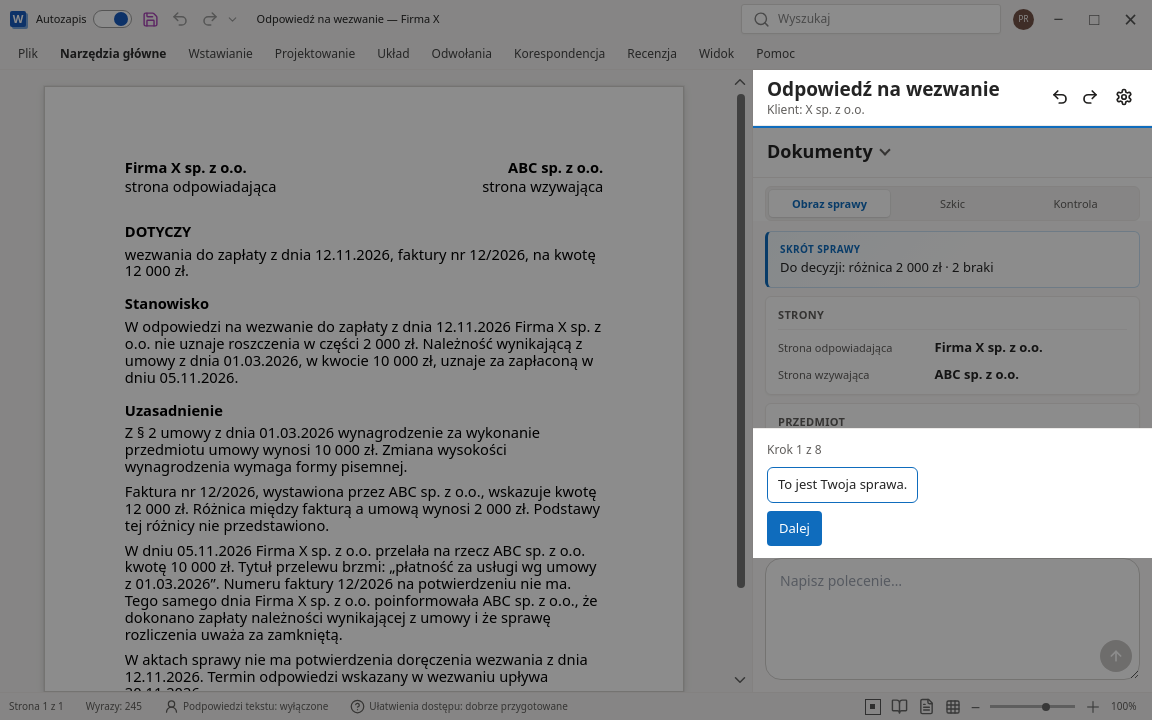
Test: prezentacja › krok 6 czeka na kliknięcie faktury
Later steps or results of the test are not shown.
Click the button "Dalej".
click(794, 529)  # box [767, 511, 822, 546]
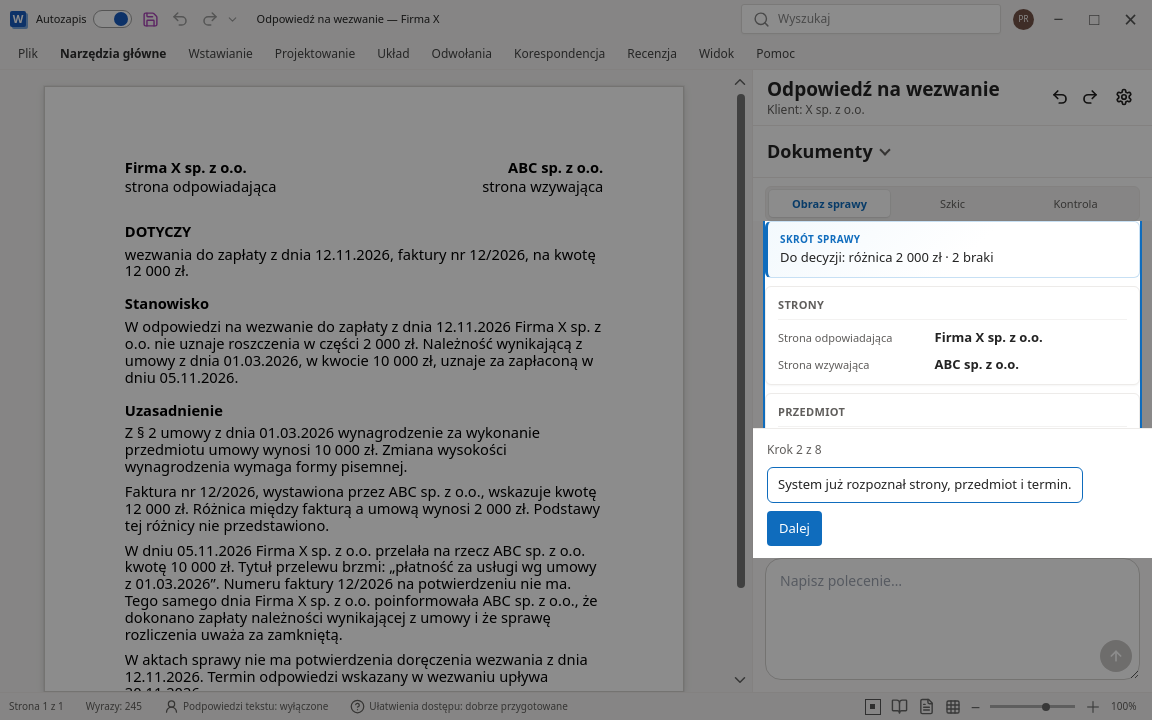
Click the button "Dalej".
click(794, 529)  # box [767, 511, 822, 546]
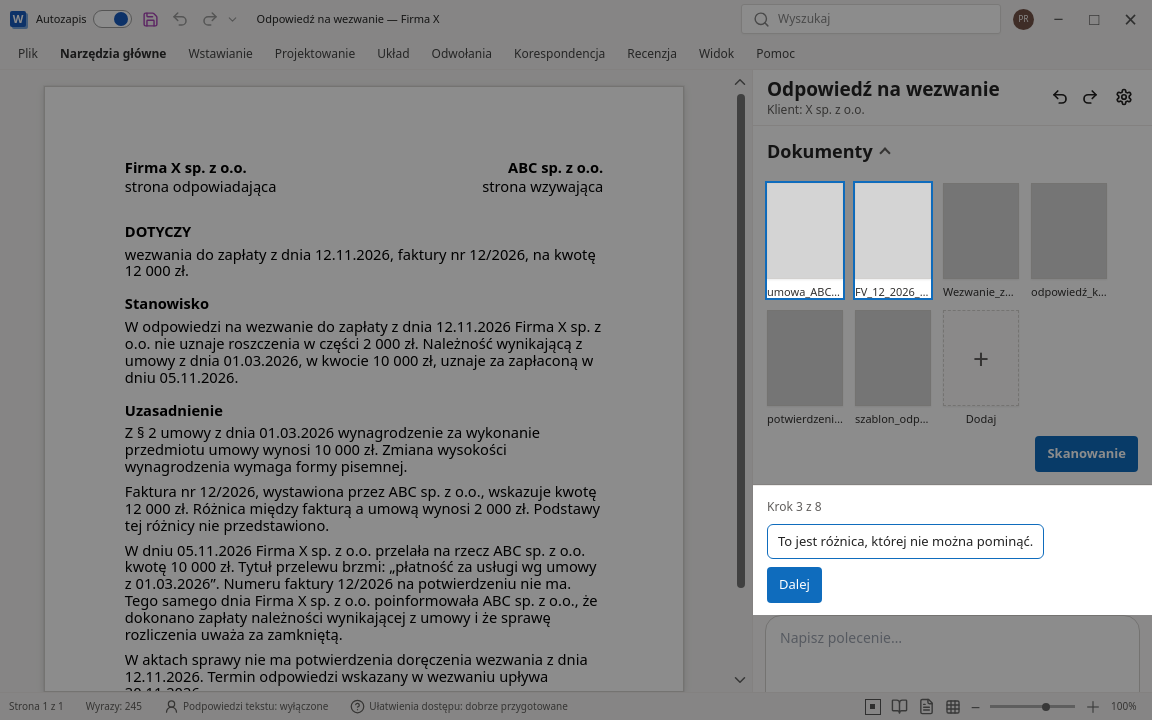
Click the button "Dalej".
click(794, 585)  # box [767, 567, 822, 603]
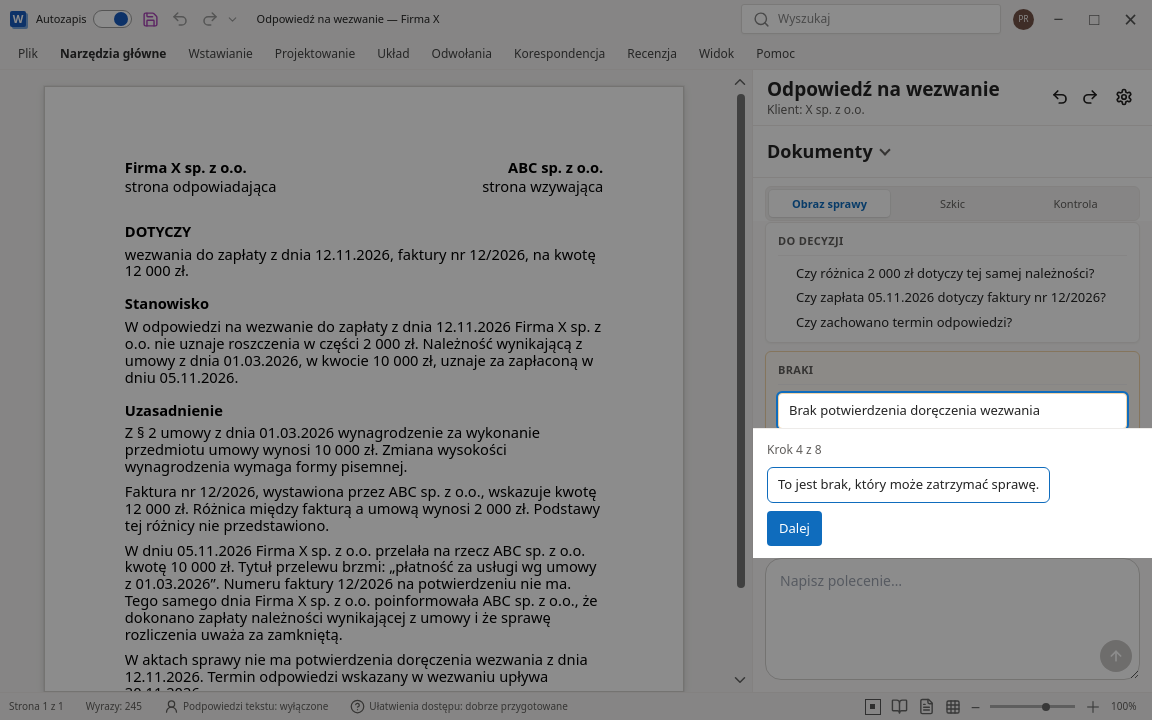
Click the button "Dalej".
click(794, 529)  # box [767, 511, 822, 546]
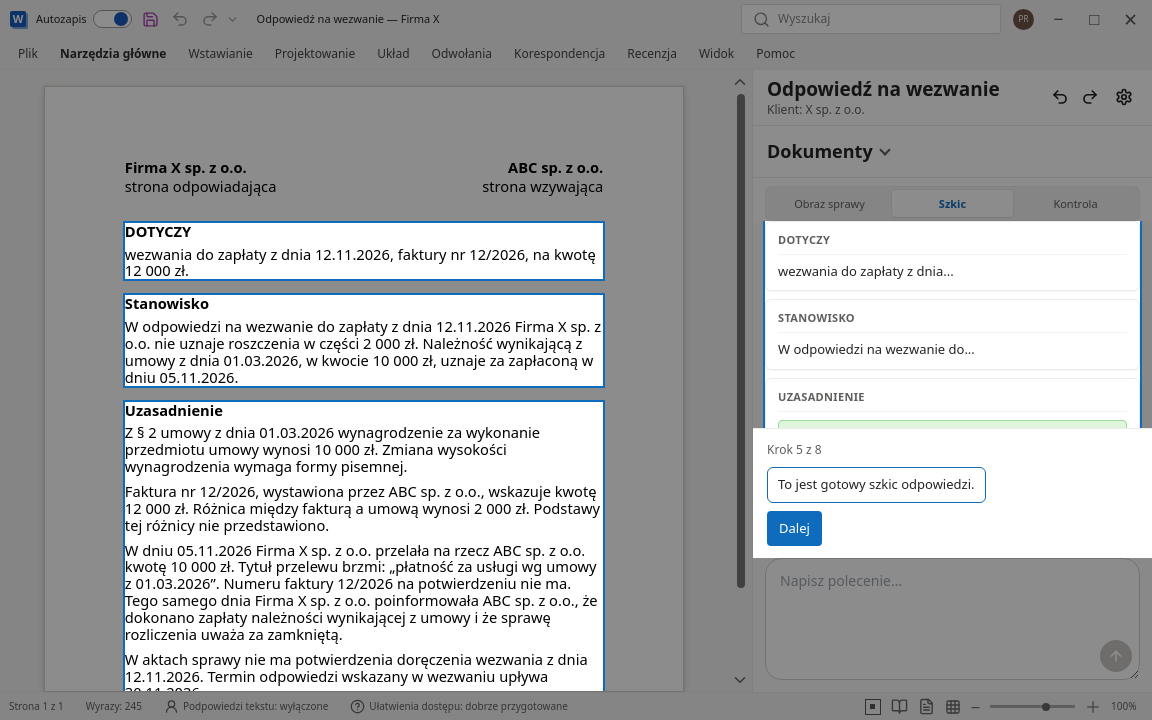
Click the button "Dalej".
click(794, 529)  # box [767, 511, 822, 546]
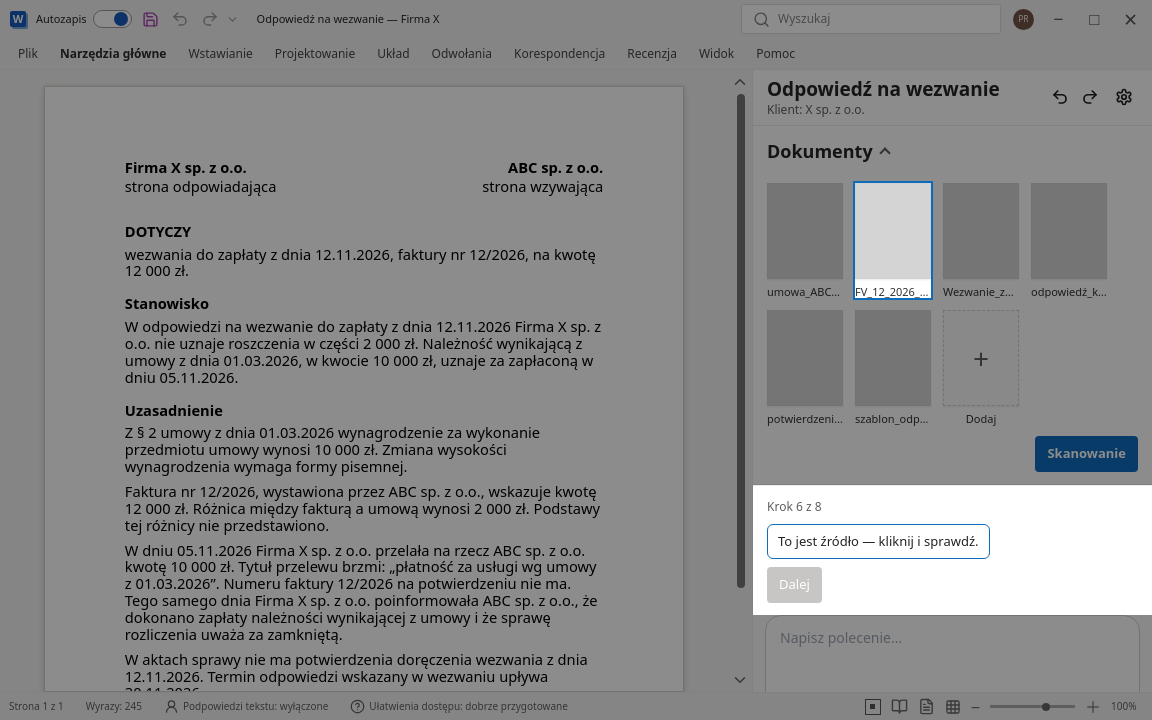
Now the text "To jest źródło — kliknij i sprawdź." is shown, box [767, 524, 990, 559]
Click the button "Dalej".
click(794, 585)  # box [767, 567, 822, 603]
Now the text "Krok 6 z 8" is shown, box [767, 498, 822, 516]
Now the text "To jest źródło — kliknij i sprawdź." is shown, box [767, 524, 990, 559]
